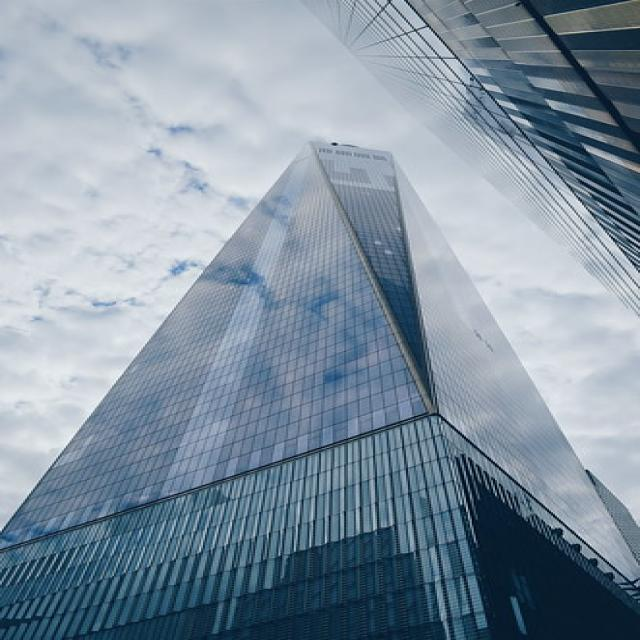Normal_building: (4, 134, 640, 640)
